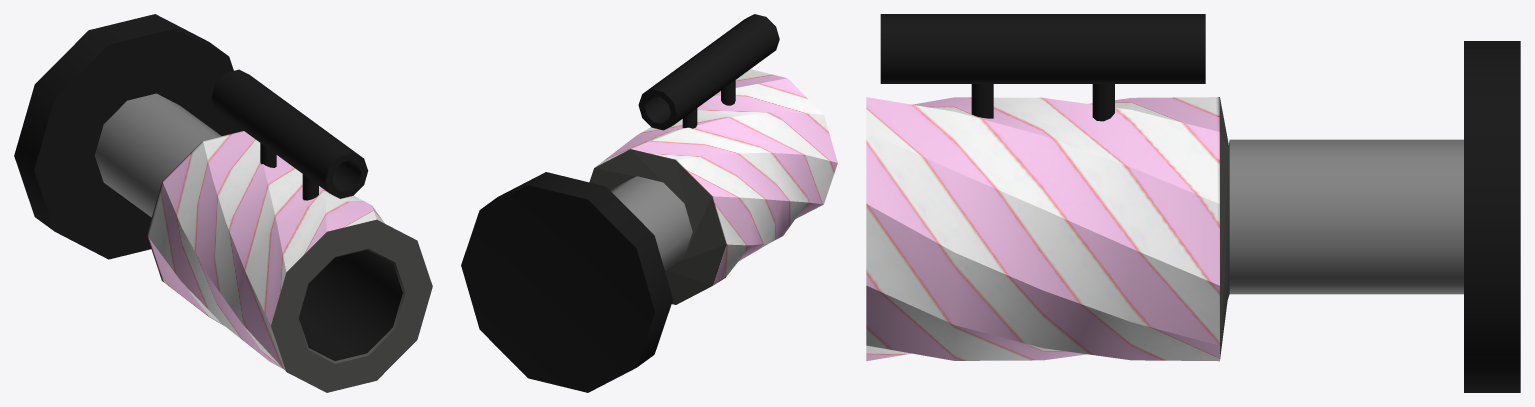
Rendered from SKM_Sniper.fbx.
The picture shows the model from 3 angles, left to right: view 1: azimuth 30°, elevation 25°; view 2: azimuth 150°, elevation 25°; view 3: azimuth 270°, elevation 25°; orthographic projection. The views are drawn at different scales.
Visible parts, largest first — view 1: SKM_Sniper; view 2: SKM_Sniper; view 3: SKM_Sniper.
Boxes of the visible parts, x1=… form: SKM_Sniper: x1=14, y1=14, x2=432, y2=392; SKM_Sniper: x1=461, y1=14, x2=837, y2=392; SKM_Sniper: x1=866, y1=14, x2=1520, y2=392.
Bounding box in the file's own units: 0.7512 × 0.8211 × 1.39.
Materials: 5 (1 with a texture image).
